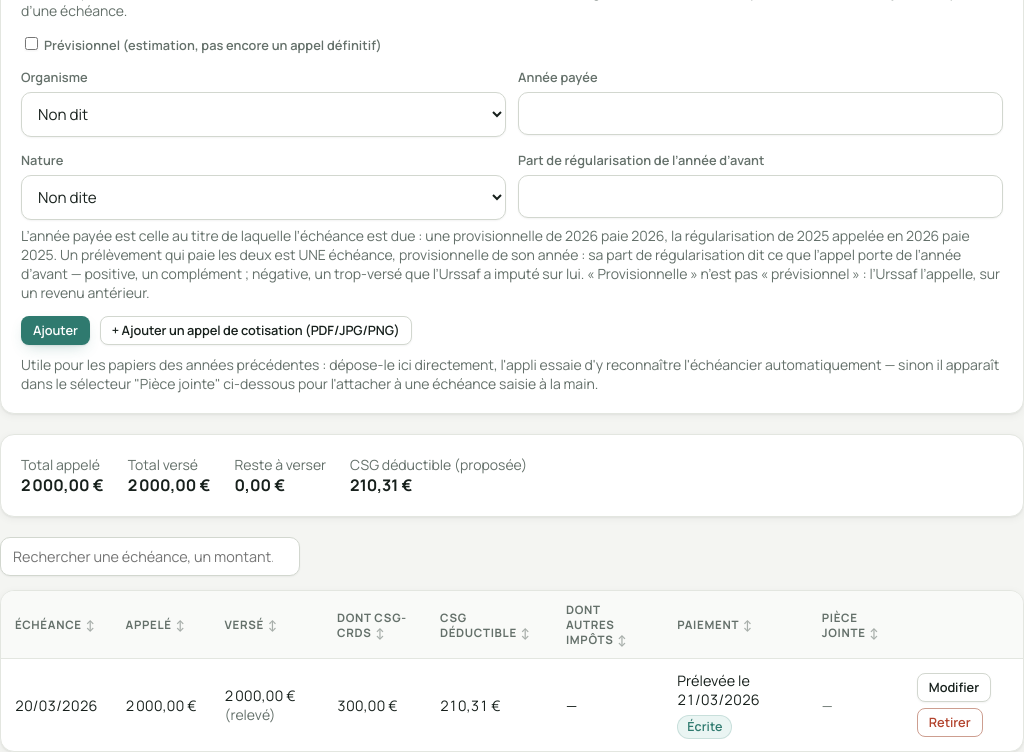
CotisationsTab — la part « autres impôts », drapeau levé › « Modifier » une échéance rapprochée : la part saisie réécrit l’écriture avec sa ligne, dite avant le clic, sous la version lue
(page scrolled)
Click the button "Modifier". click: coordinates (954, 687)
box: [917,673,991,702]
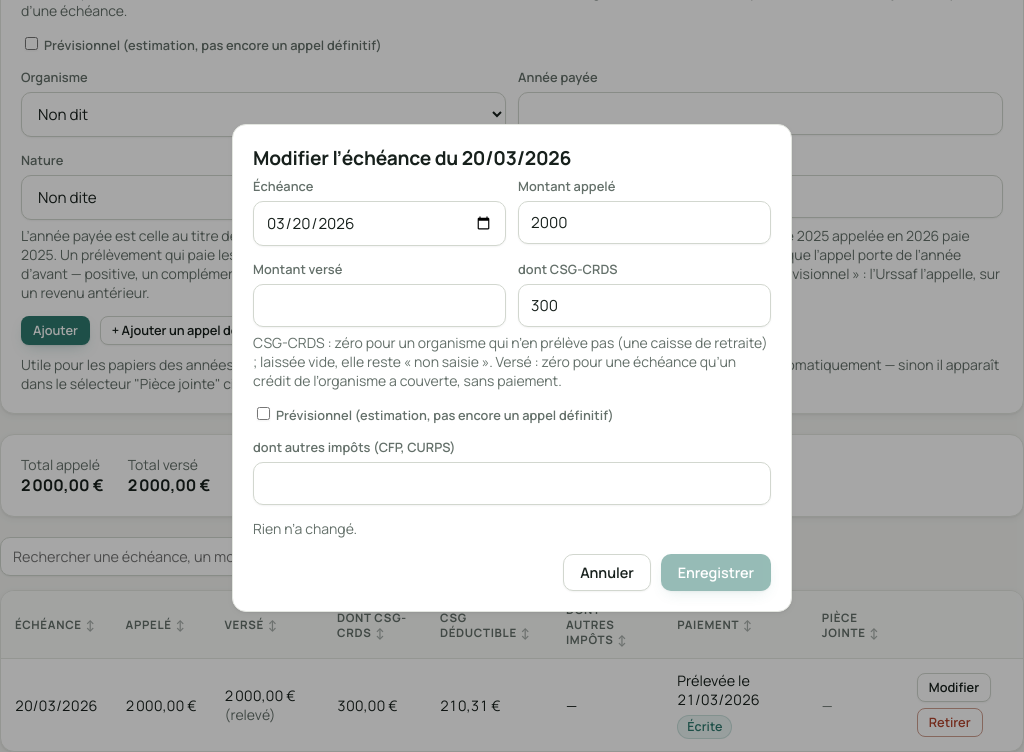
Type "20" into the number field labelled "dont autres impôts (CFP, CURPS)". click: coordinates (512, 483)
box: [253,462,771,505]
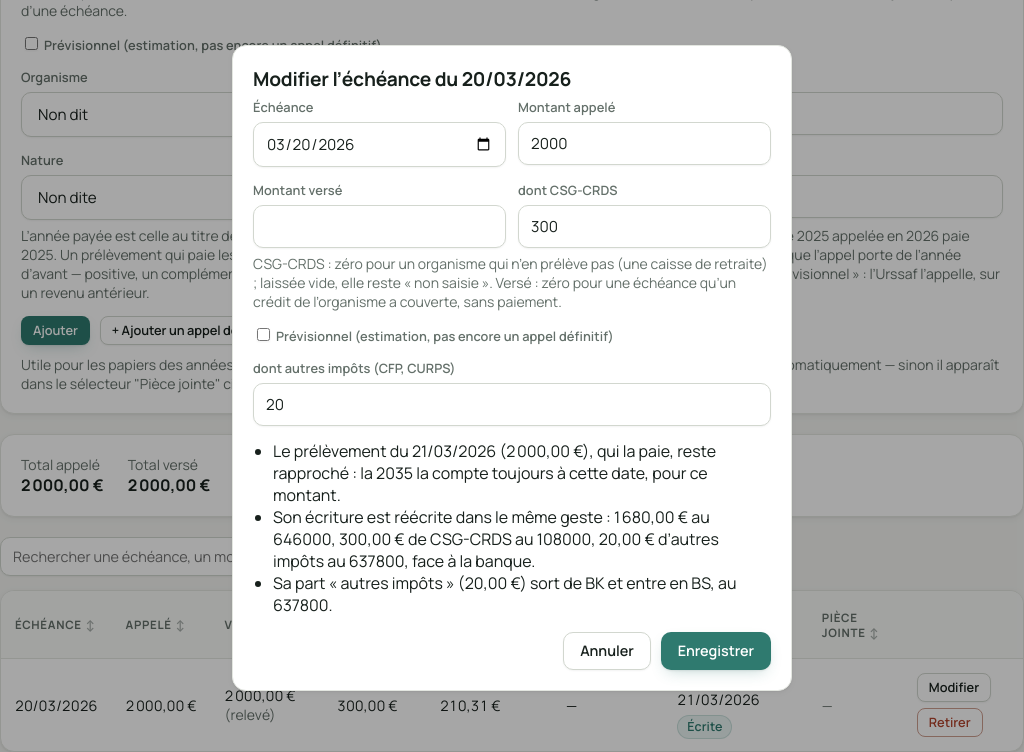
Click the button "Enregistrer". click: coordinates (716, 651)
box: [661,632,771,670]
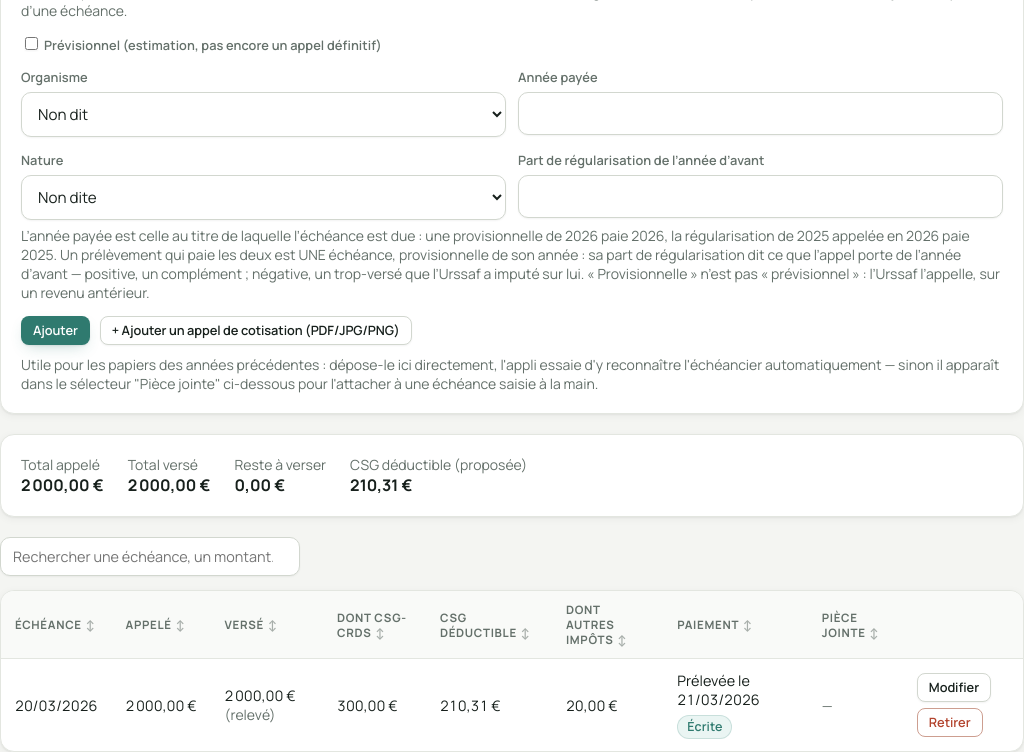
Result: the dialog is gone
